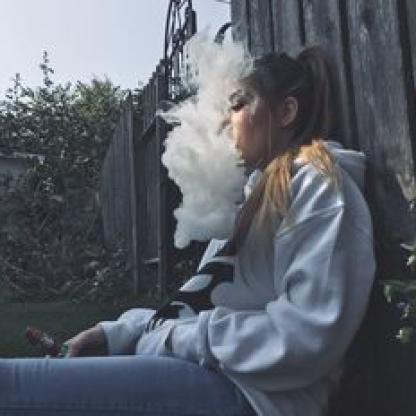person: (214, 44, 378, 414)
smoke: (168, 43, 246, 247)
